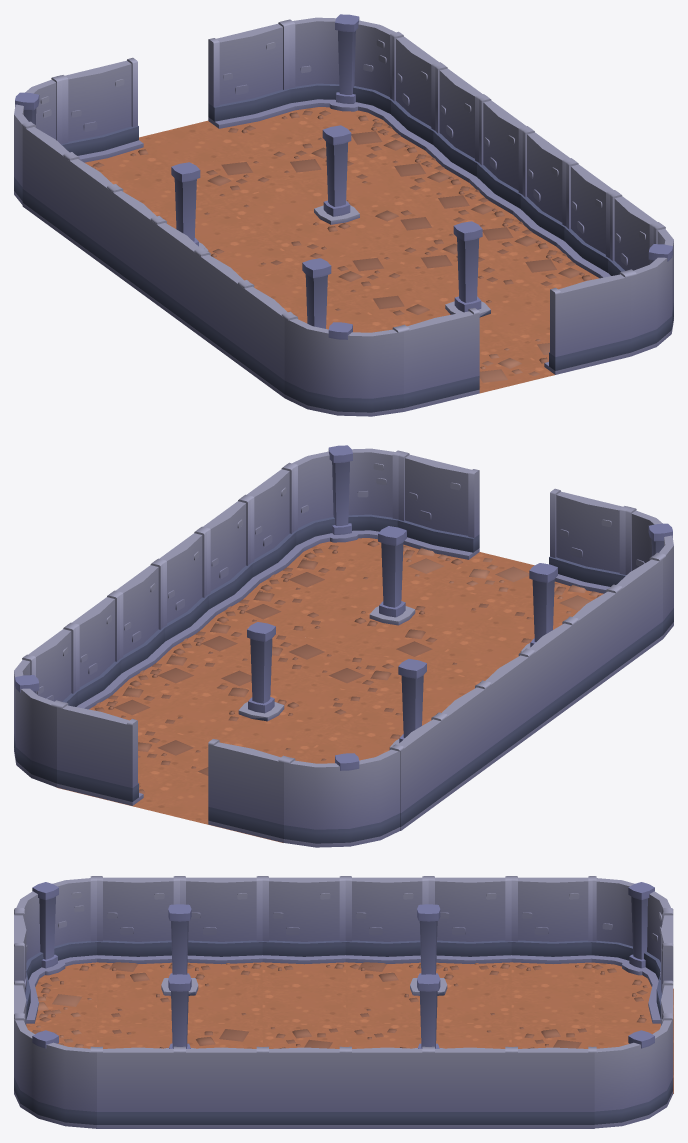
Rendered from long_room_2_opening.glb.
The picture shows the model from 3 angles, top to bottom: view 1: azimuth 30°, elevation 25°; view 2: azimuth 150°, elevation 25°; view 3: azimuth 270°, elevation 25°; orthographic projection. The views are drawn at different scales.
Visible parts, largest first — view 1: template-floor-big.003, template-corner.007, template-floor-big, template-corner.003, template-wall.011, template-wall.007, template-wall.008, template-wall.006, template-floor-big.002, template-wall.002, template-wall.018, template-wall.001 (+28 smaller); view 2: template-floor-big, template-floor-big.003, template-corner.001, template-corner.005, template-wall.007, template-wall.011, template-wall.006, template-wall.008, template-floor-big.001, template-floor-big.002, template-wall, template-wall.019 (+27 smaller); view 3: template-floor-big.002, template-floor-big.001, template-corner.003, template-corner.005, template-wall.003, template-wall.016, template-corner.001, template-wall.015, template-wall.004, template-wall.014, template-wall.018, template-wall.019 (+22 smaller).
Part boxes in pixels (<box>): template-floor-big.003: <box>218,125,453,262</box>; template-corner.007: <box>285,14,400,130</box>; template-floor-big: <box>349,221,549,350</box>; template-corner.003: <box>284,314,403,416</box>; template-wall.011: <box>208,20,299,133</box>; template-wall.007: <box>539,271,630,374</box>; template-wall.008: <box>58,57,148,169</box>; template-wall.006: <box>399,308,479,411</box>; template-floor-big.002: <box>160,162,302,280</box>; template-wall.002: <box>502,128,574,248</box>; template-wall.018: <box>415,64,486,184</box>; template-wall.001: <box>546,160,617,280</box>; template-floor-big: <box>276,526,511,663</box>; template-floor-big.003: <box>142,622,380,760</box>; template-corner.001: <box>286,445,402,565</box>; template-corner.005: <box>284,745,403,847</box>; template-wall.007: <box>397,451,479,565</box>; template-wall.011: <box>57,702,145,805</box>; template-wall.006: <box>549,488,629,597</box>; template-wall.008: <box>208,739,288,842</box>; template-floor-big.001: <box>427,563,569,680</box>; template-floor-big.002: <box>296,659,438,763</box>; template-wall: <box>242,465,316,584</box>; template-wall.019: <box>111,561,185,680</box>; template-floor-big.002: <box>345,904,511,1023</box>; template-floor-big.001: <box>97,904,262,1023</box>; template-corner.003: <box>14,876,96,988</box>; template-corner.005: <box>590,876,673,988</box>; template-wall.003: <box>262,876,345,970</box>; template-wall.016: <box>511,876,594,970</box>; template-corner.001: <box>14,1016,96,1128</box>; template-wall.015: <box>428,876,511,970</box>; template-wall.004: <box>180,876,262,970</box>; template-wall.014: <box>345,876,428,970</box>; template-wall.018: <box>428,1046,511,1128</box>; template-wall.019: <box>345,1046,428,1128</box>.
Bounding box in the file's own units: 20 × 4.23 × 31.83.
11 materials, 11 textured.
